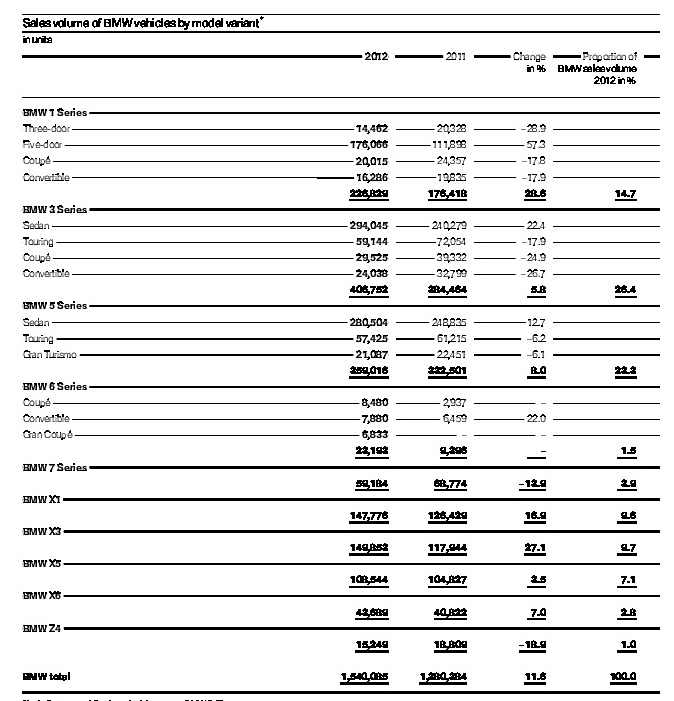table: (0, 0, 674, 701)
